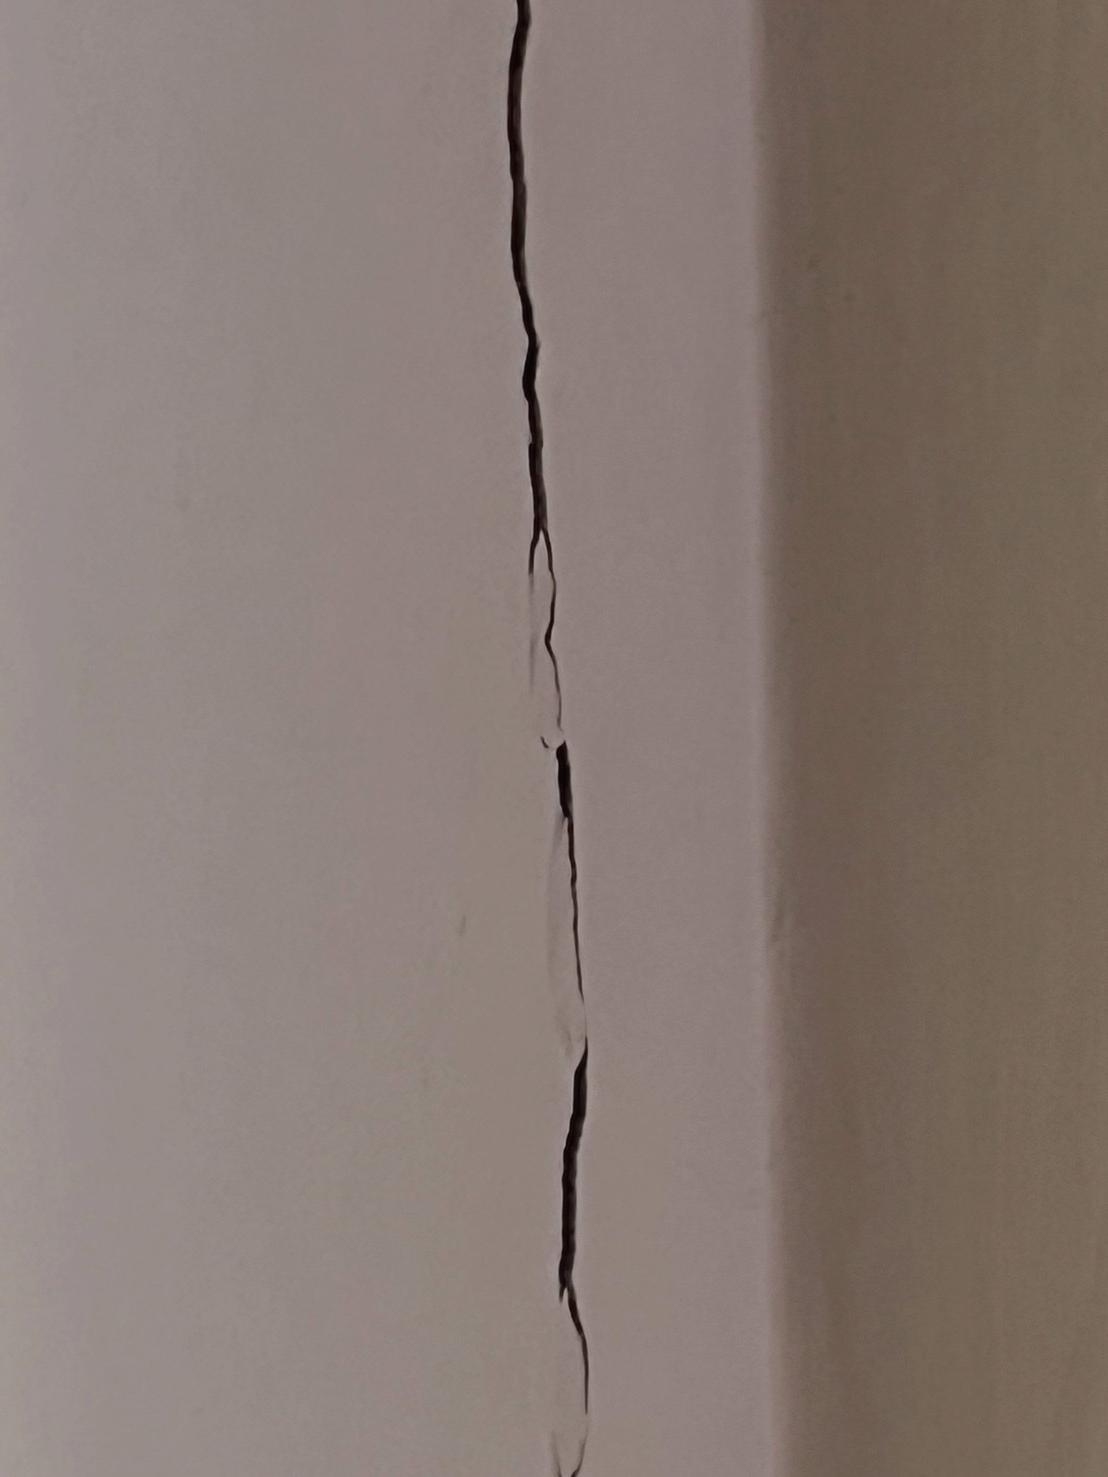High: (425, 5, 692, 1470)
